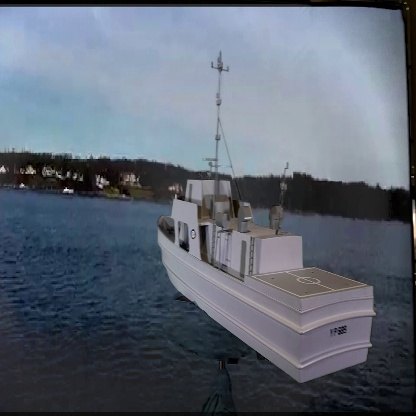YP689: (157, 51, 376, 386)
